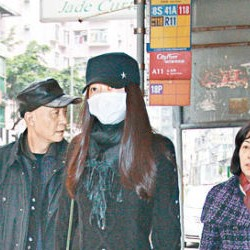mask: (86, 89, 128, 126)
